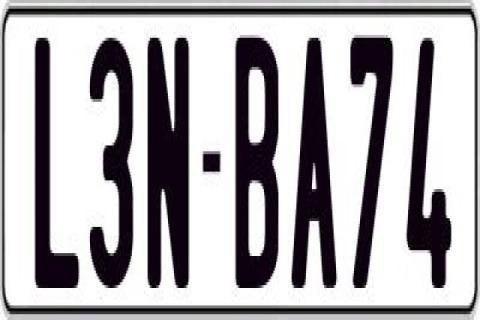0: (404, 32, 456, 282), (90, 38, 134, 294), (348, 32, 390, 285)
A: (288, 35, 338, 288)
B: (234, 38, 278, 288)
L: (34, 35, 86, 303)
N: (147, 35, 191, 303)
